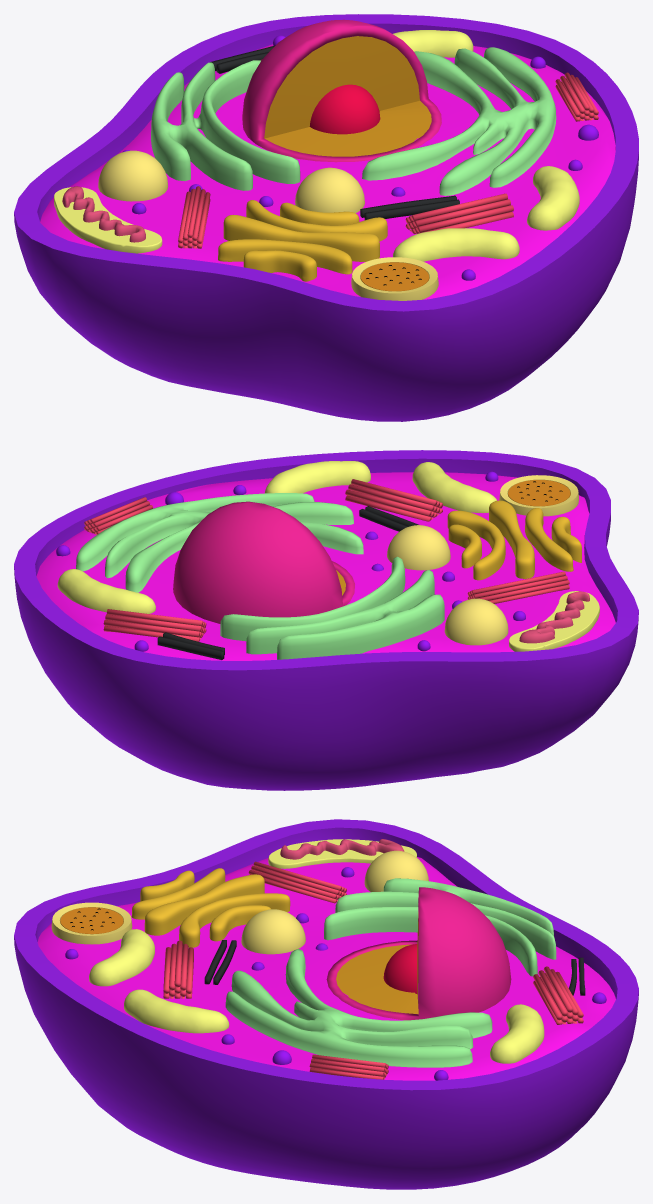
File: tebaonhantu.glb
3 views of the same model, one above another, from view 1: azimuth 30°, elevation 25°; view 2: azimuth 150°, elevation 25°; view 3: azimuth 270°, elevation 25° (orthographic). The views are drawn at different scales.
Parts seen in each view (by area): view 1: object 3, Citoplasma.001, Reticulo Endoplasmatico, Nucleo.001, Mitocondria.001, Aparato de Golgi.001, Lisosoma, Envoltura nuclear.001, Centriolo, Nucleolo.001, object 12, Ribosoma; view 2: object 3, Citoplasma.001, Reticulo Endoplasmatico, Envoltura nuclear.001, Mitocondria.001, Lisosoma, Centriolo, Aparato de Golgi.001, object 12, Ribosoma; view 3: object 3, Citoplasma.001, Reticulo Endoplasmatico, Envoltura nuclear.001, Mitocondria.001, Aparato de Golgi.001, Lisosoma, Centriolo, Nucleo.001, Nucleolo.001, Ribosoma, object 12.
Part boxes in pixels (x1,y1,x2,y2): object 3: (14,14,638,421); Citoplasma.001: (40,44,615,299); Reticulo Endoplasmatico: (151,47,556,195); Nucleo.001: (264,36,431,156); Mitocondria.001: (54,30,579,261); Aparato de Golgi.001: (218,200,387,281); Lisosoma: (98,150,438,300); Envoltura nuclear.001: (242,19,441,162); Centriolo: (178,59,598,248); Nucleolo.001: (309,84,380,134); object 12: (210,45,459,220); Ribosoma: (122,35,598,280); object 3: (14,450,638,790); Citoplasma.001: (36,472,615,660); Reticulo Endoplasmatico: (76,493,444,659); Envoltura nuclear.001: (173,501,354,623); Mitocondria.001: (57,461,599,651); Lisosoma: (387,475,578,645); Centriolo: (84,479,569,641); Aparato de Golgi.001: (447,500,581,580); object 12: (157,506,418,659); Ribosoma: (56,471,525,651); object 3: (14,819,638,1189); Citoplasma.001: (37,857,615,1080); Reticulo Endoplasmatico: (225,878,556,1067); Envoltura nuclear.001: (326,887,511,1020); Mitocondria.001: (89,839,544,1063); Aparato de Golgi.001: (131,868,290,947); Lisosoma: (51,850,428,954); Centriolo: (163,861,583,1079); Nucleo.001: (336,912,418,1014); Nucleolo.001: (383,944,417,993); Ribosoma: (65,867,606,1080); object 12: (204,940,585,995).
Bounding box in the file's own units: 1.88 × 0.808 × 1.83.
1 material, 1 textured.
